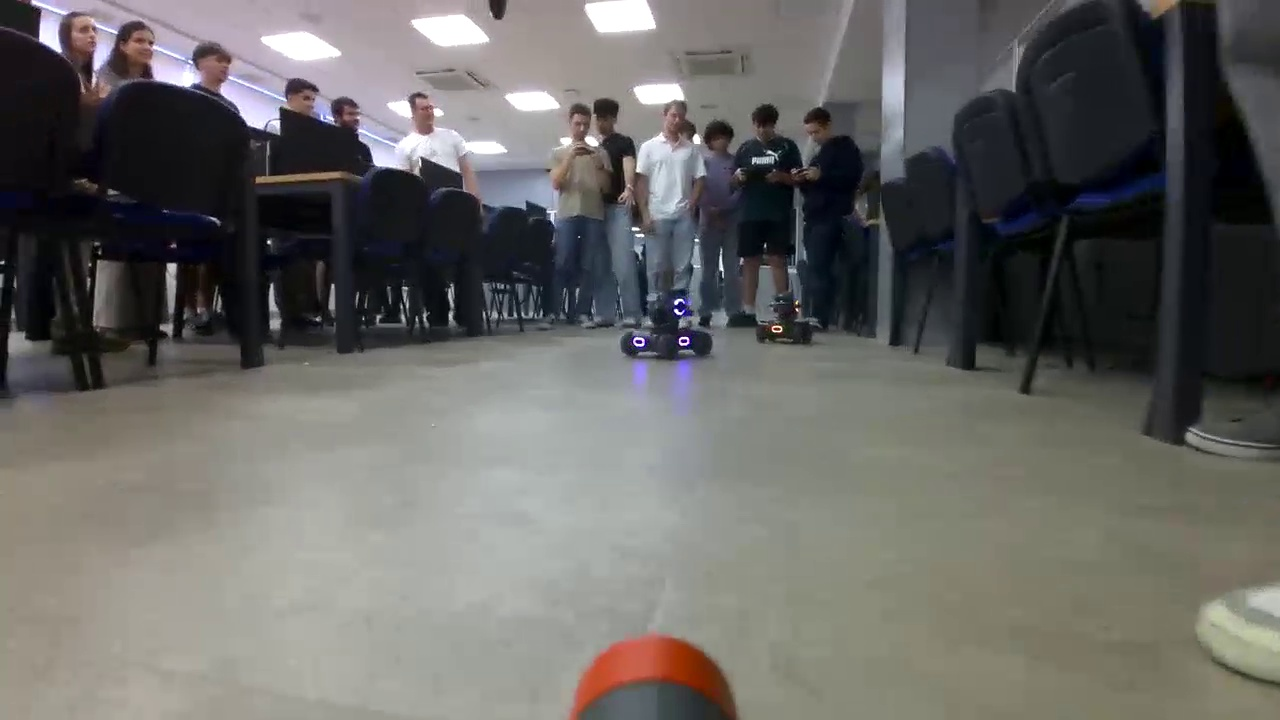robot: (620, 288, 713, 361), (757, 296, 826, 346)
